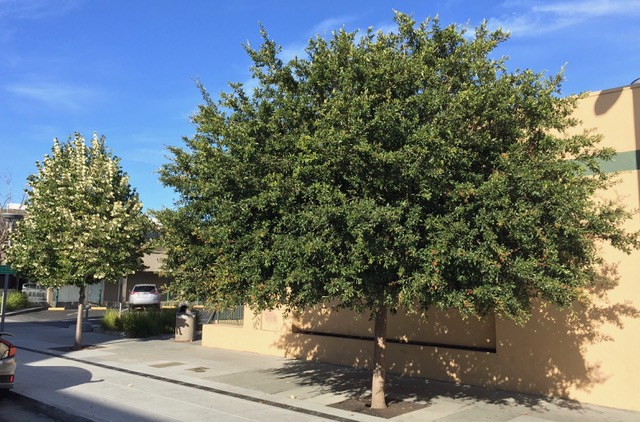tree: (146, 6, 640, 410), (1, 129, 151, 348)
